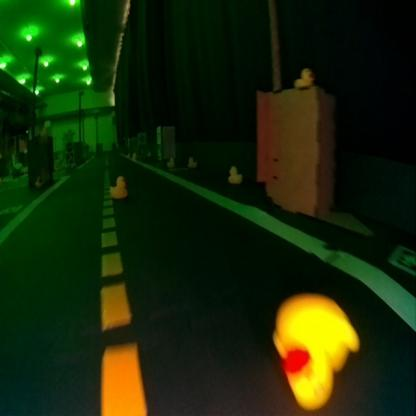Duckie: (273, 297, 358, 408), (110, 176, 126, 198), (294, 67, 312, 85), (228, 165, 240, 183), (166, 158, 174, 166), (188, 156, 194, 164), (35, 176, 41, 183)
QR code: (388, 244, 412, 274)
